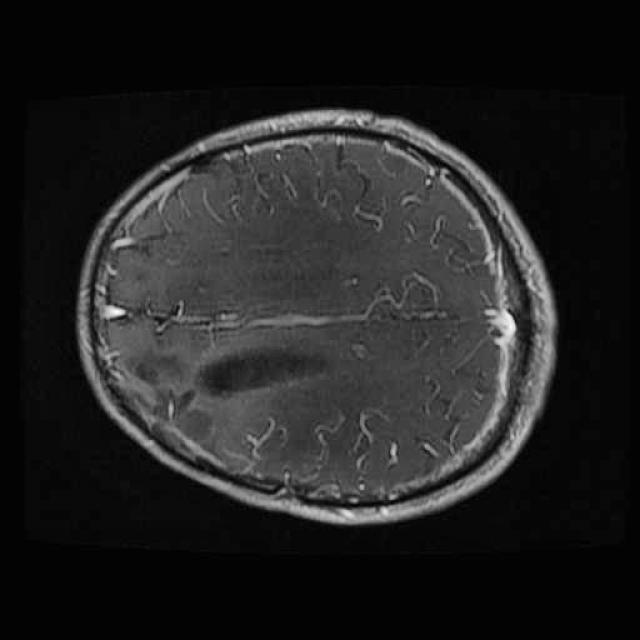Tumor: (122, 330, 340, 464)
